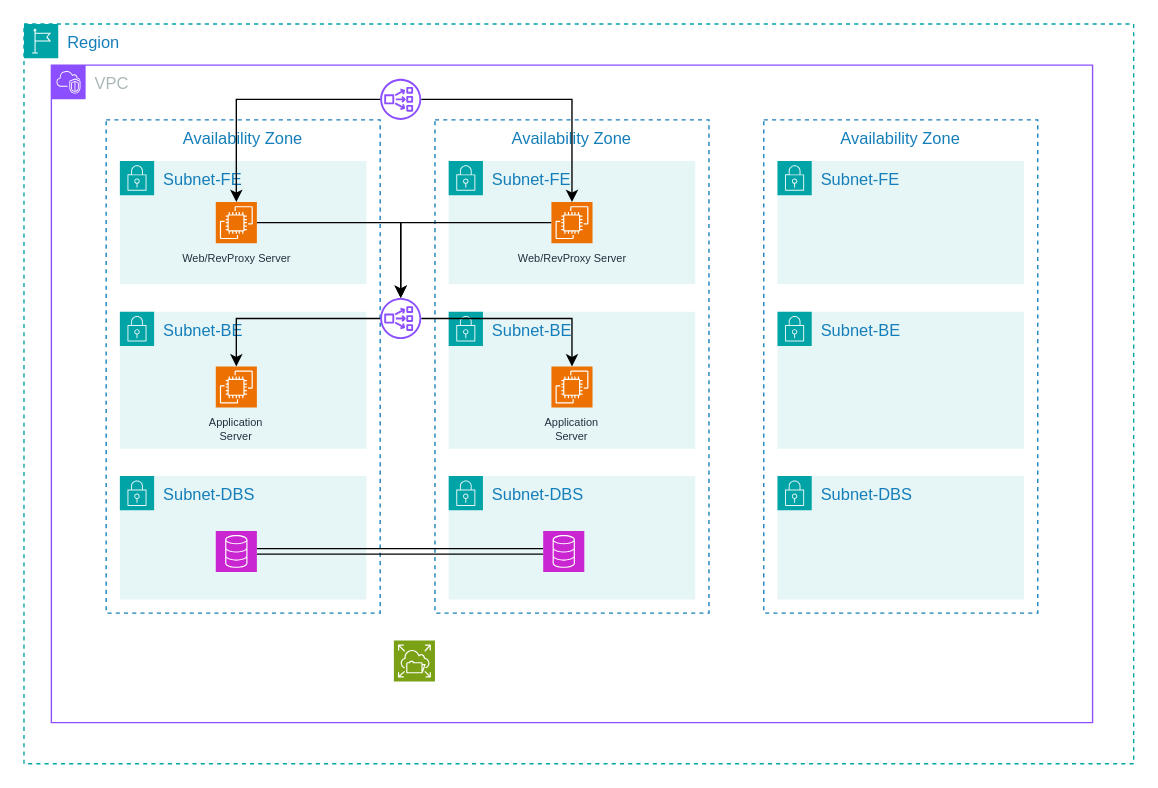
Image size: 1158x788. Some labels were removed from this diagram. Each missing label, with the box of its shape:
DB instance replica: (542, 530, 584, 572)
DB instance write: (214, 530, 257, 572)
Shared Filesystem: (393, 639, 435, 682)
